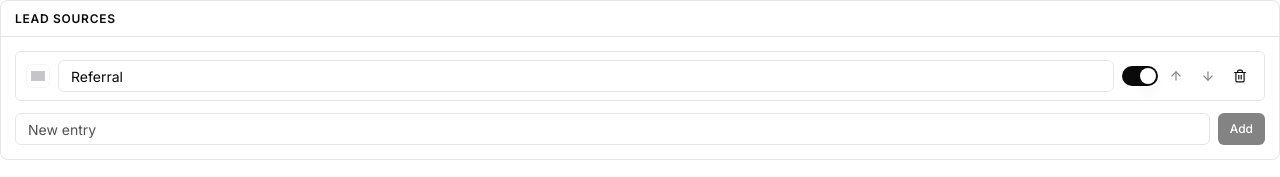
Test: PickListEditor › a failed rename rolls back to the saved label
Replace the text in the field named "Name of Referral" with "Word of mouth". click: x=586, y=76
box: x1=58 y1=60 x2=1114 y2=92
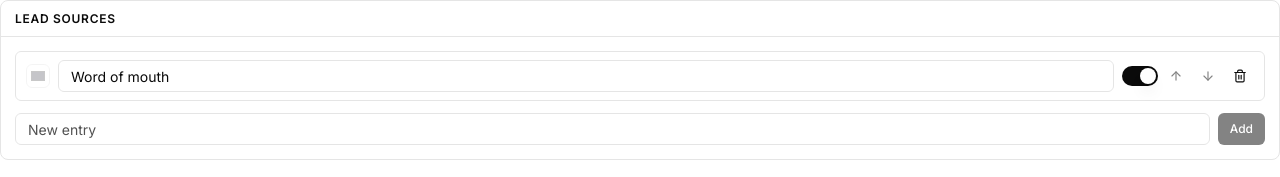
Leave the field named "Name of Referral", box x1=58 y1=60 x2=1114 y2=92
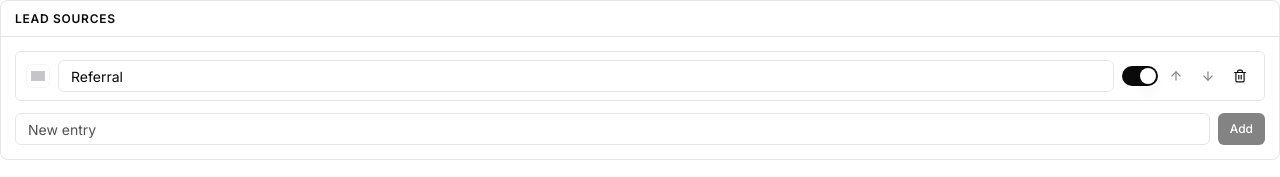
Now the field named "Name of Referral" holds "Referral", box x1=58 y1=60 x2=1114 y2=92
